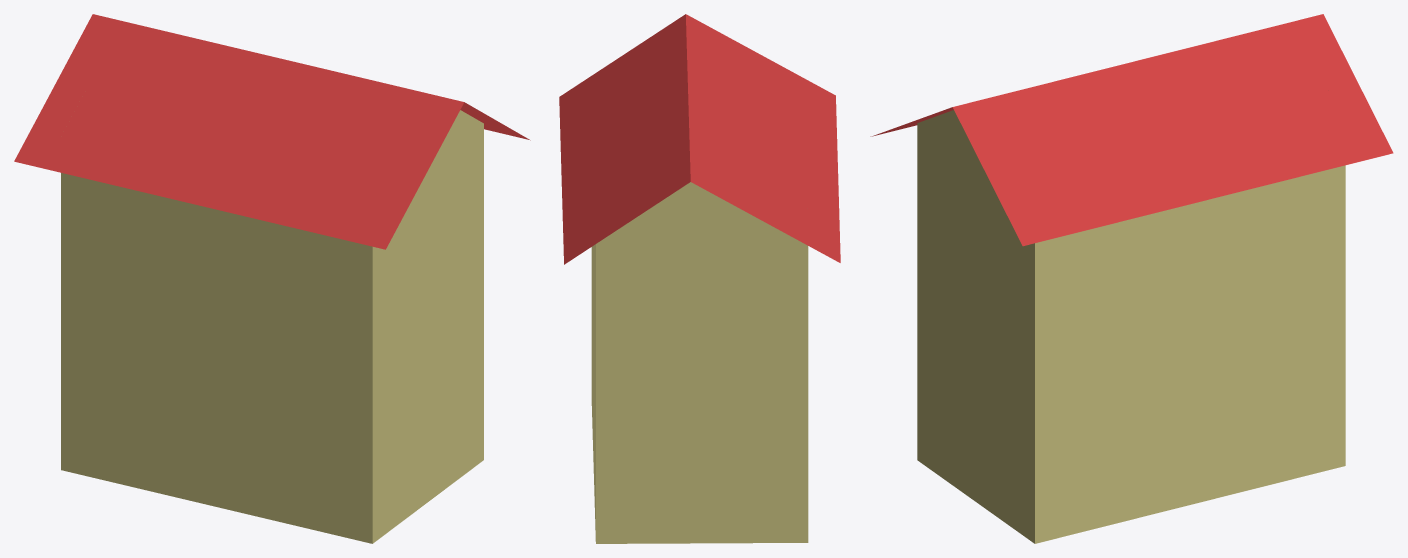
The picture shows the model from 3 angles, left to right: view 1: azimuth 30°, elevation 25°; view 2: azimuth 150°, elevation 25°; view 3: azimuth 270°, elevation 25°; orthographic projection. The views are drawn at different scales.
Size of the model in its own units: 6.85 by 7.5 by 6.43.
